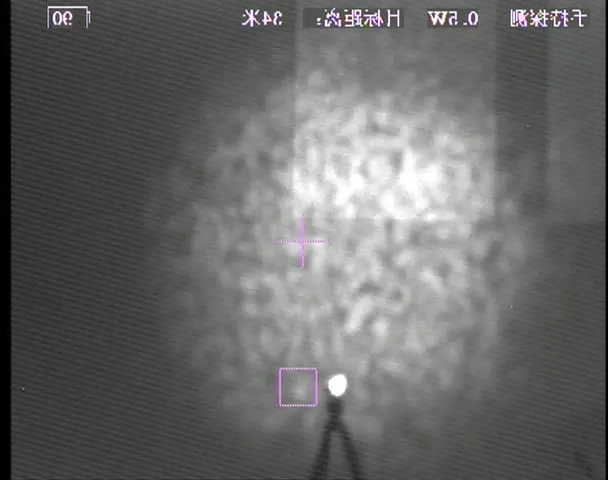my: (327, 372, 349, 398)
